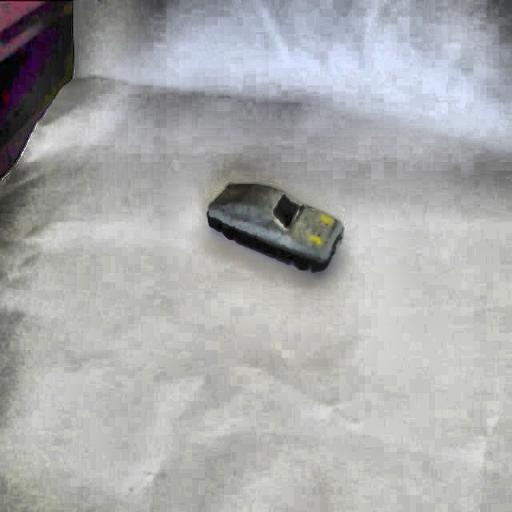normal_car: (202, 177, 346, 275)
